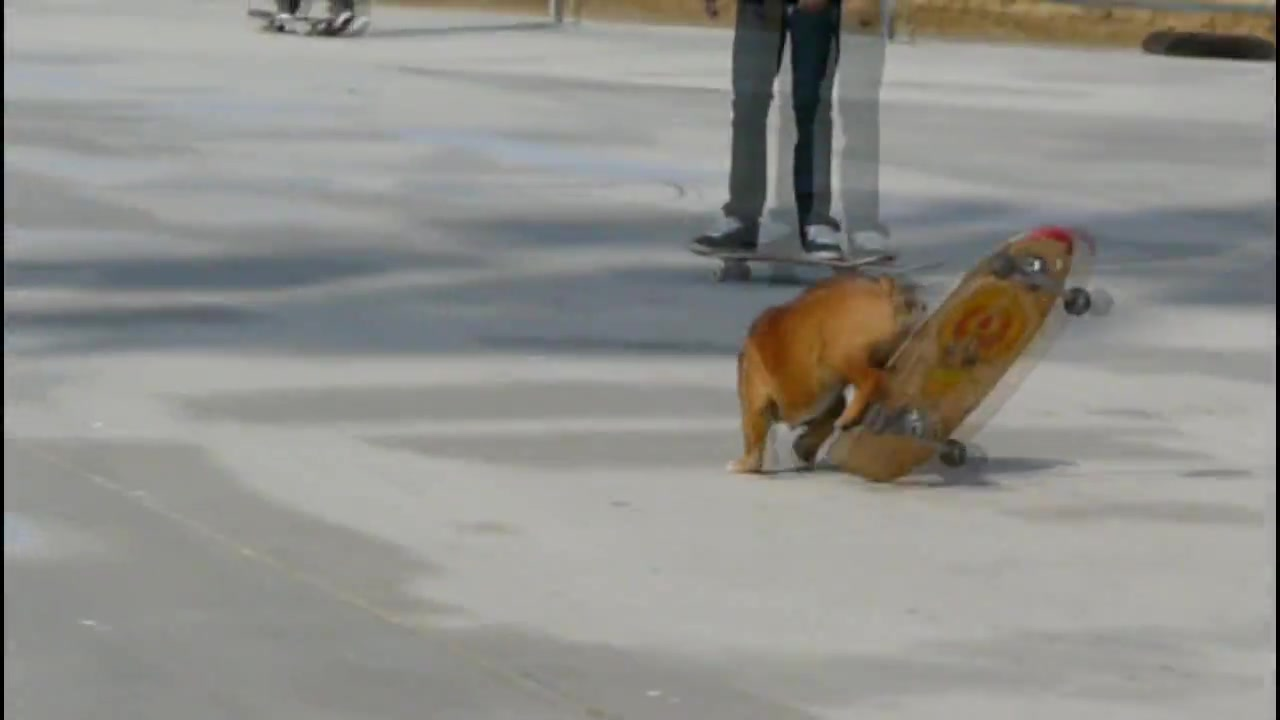dog: (730, 264, 927, 483)
